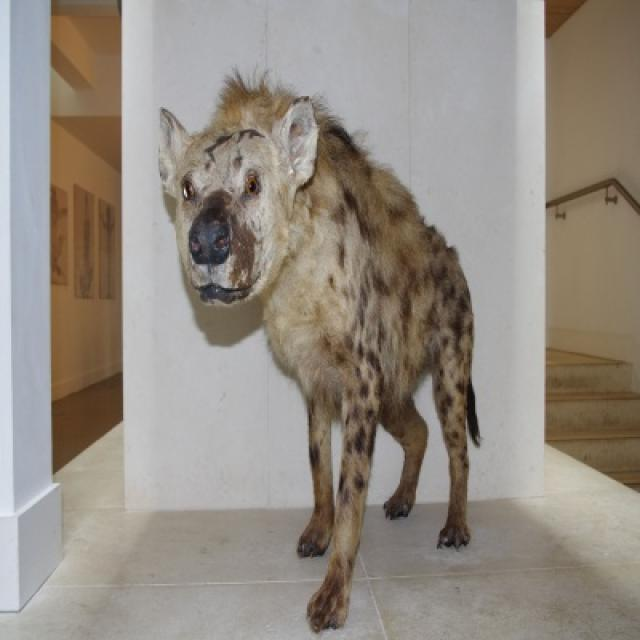hyena: (158, 74, 480, 629)
